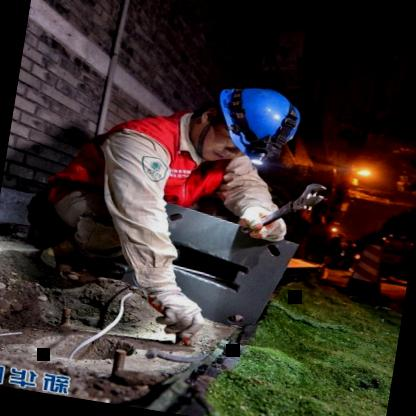helmet: (203, 74, 311, 164)
